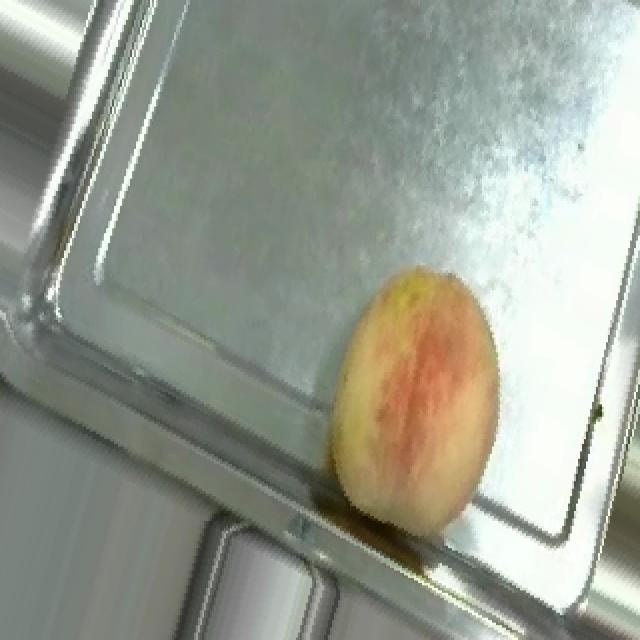Fruit: (282, 238, 540, 563)
